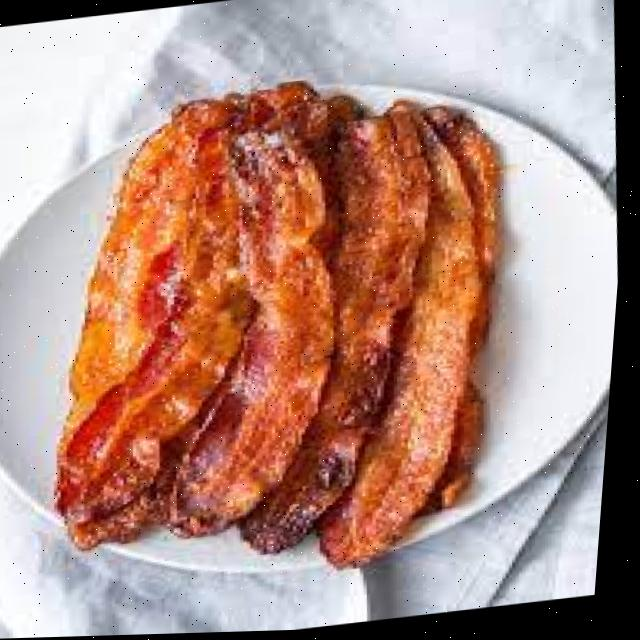Bacon: (64, 101, 258, 546), (249, 107, 433, 553), (169, 94, 340, 537), (326, 116, 487, 567)
